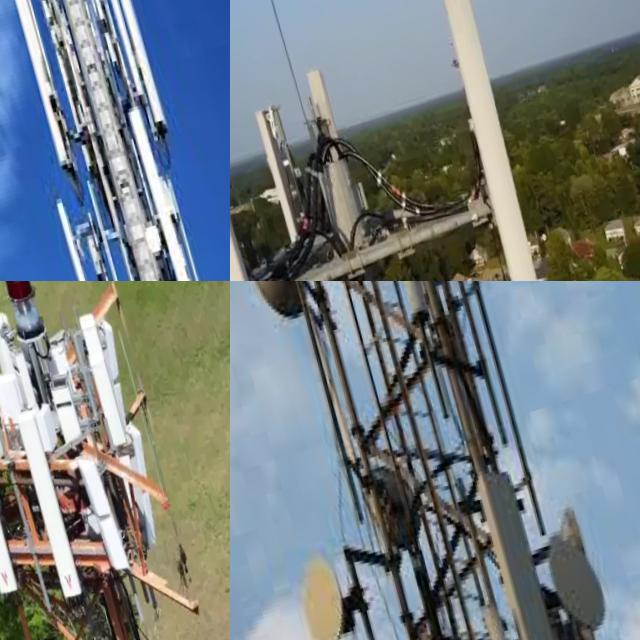GSM Antenna: (438, 0, 535, 281), (4, 402, 87, 623), (466, 459, 561, 640), (114, 84, 196, 281), (245, 100, 333, 281), (0, 0, 74, 193), (95, 0, 175, 177), (67, 315, 133, 459), (67, 453, 131, 592), (42, 192, 112, 281), (0, 394, 23, 615), (359, 281, 439, 339), (299, 66, 339, 153), (466, 600, 519, 640)
Microwave Antenna: (340, 449, 423, 573), (272, 537, 353, 640), (533, 532, 609, 640), (237, 281, 308, 334), (132, 214, 162, 270)
